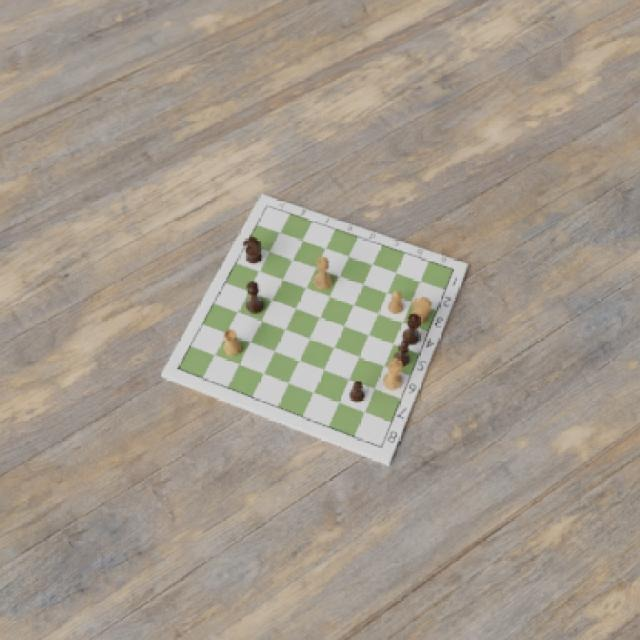black-bishop: (392, 339, 411, 366)
black-king: (244, 280, 264, 315)
black-knight: (241, 235, 262, 265)
black-pawn: (349, 380, 367, 404)
black-queen: (402, 310, 422, 345)
white-king: (312, 256, 334, 291)
white-knight: (410, 296, 433, 324)
white-pawn: (386, 290, 406, 314)
white-queen: (382, 357, 406, 393)
white-rook: (221, 327, 242, 357)
